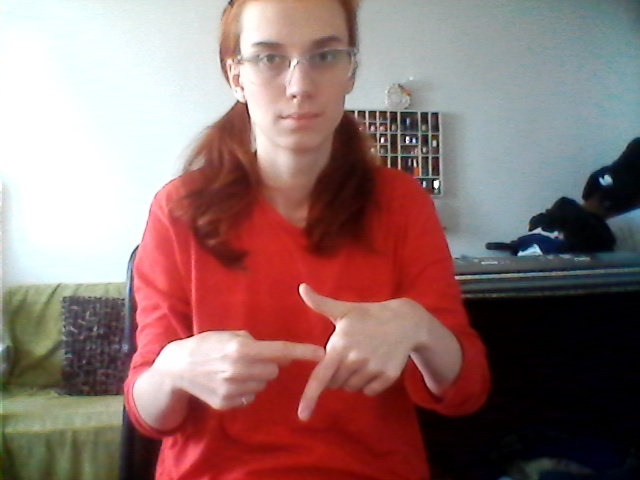f: (189, 277, 416, 432)
